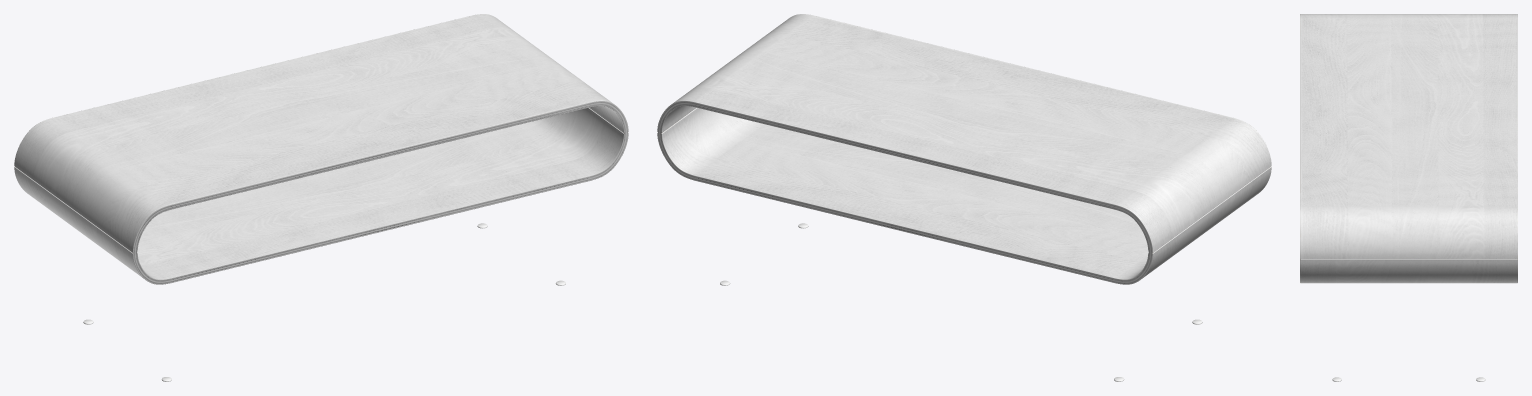
The model's file is gadtab4.glb.
The picture shows the model from 3 angles, left to right: view 1: azimuth 30°, elevation 25°; view 2: azimuth 150°, elevation 25°; view 3: azimuth 270°, elevation 25°; orthographic projection. The views are drawn at different scales.
Parts seen in each view (by area): view 1: ASH; view 2: ASH; view 3: ASH.
Boxes of the visible parts, x1,y1,x2,y2 form: ASH: [14, 14, 628, 284]; ASH: [657, 14, 1271, 284]; ASH: [1300, 14, 1517, 283].
Bounding box in the file's own units: 120 × 44.98 × 49.97.
2 materials, 1 textured.
